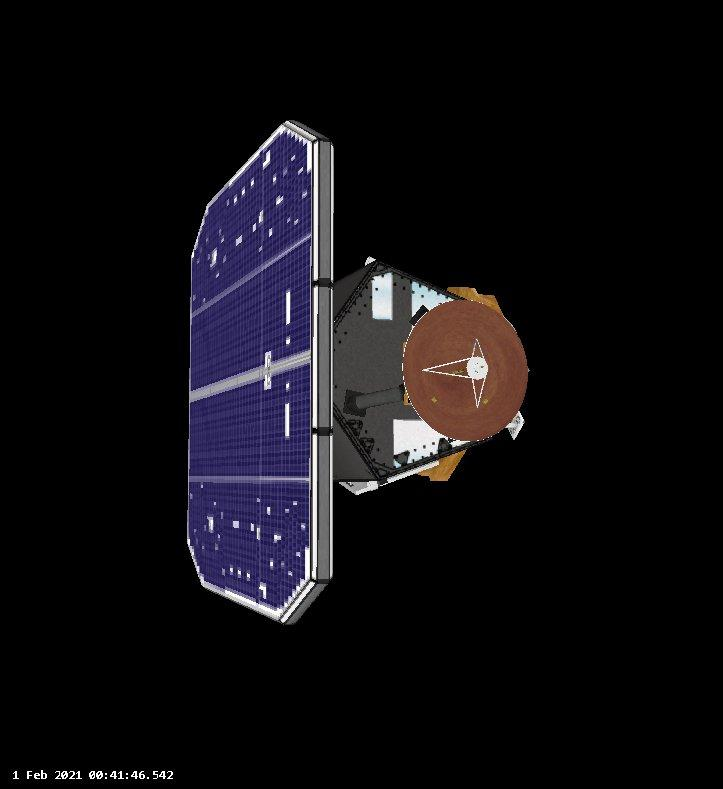antenna: (399, 297, 529, 443)
body: (334, 250, 523, 500)
solar: (183, 118, 340, 629)
